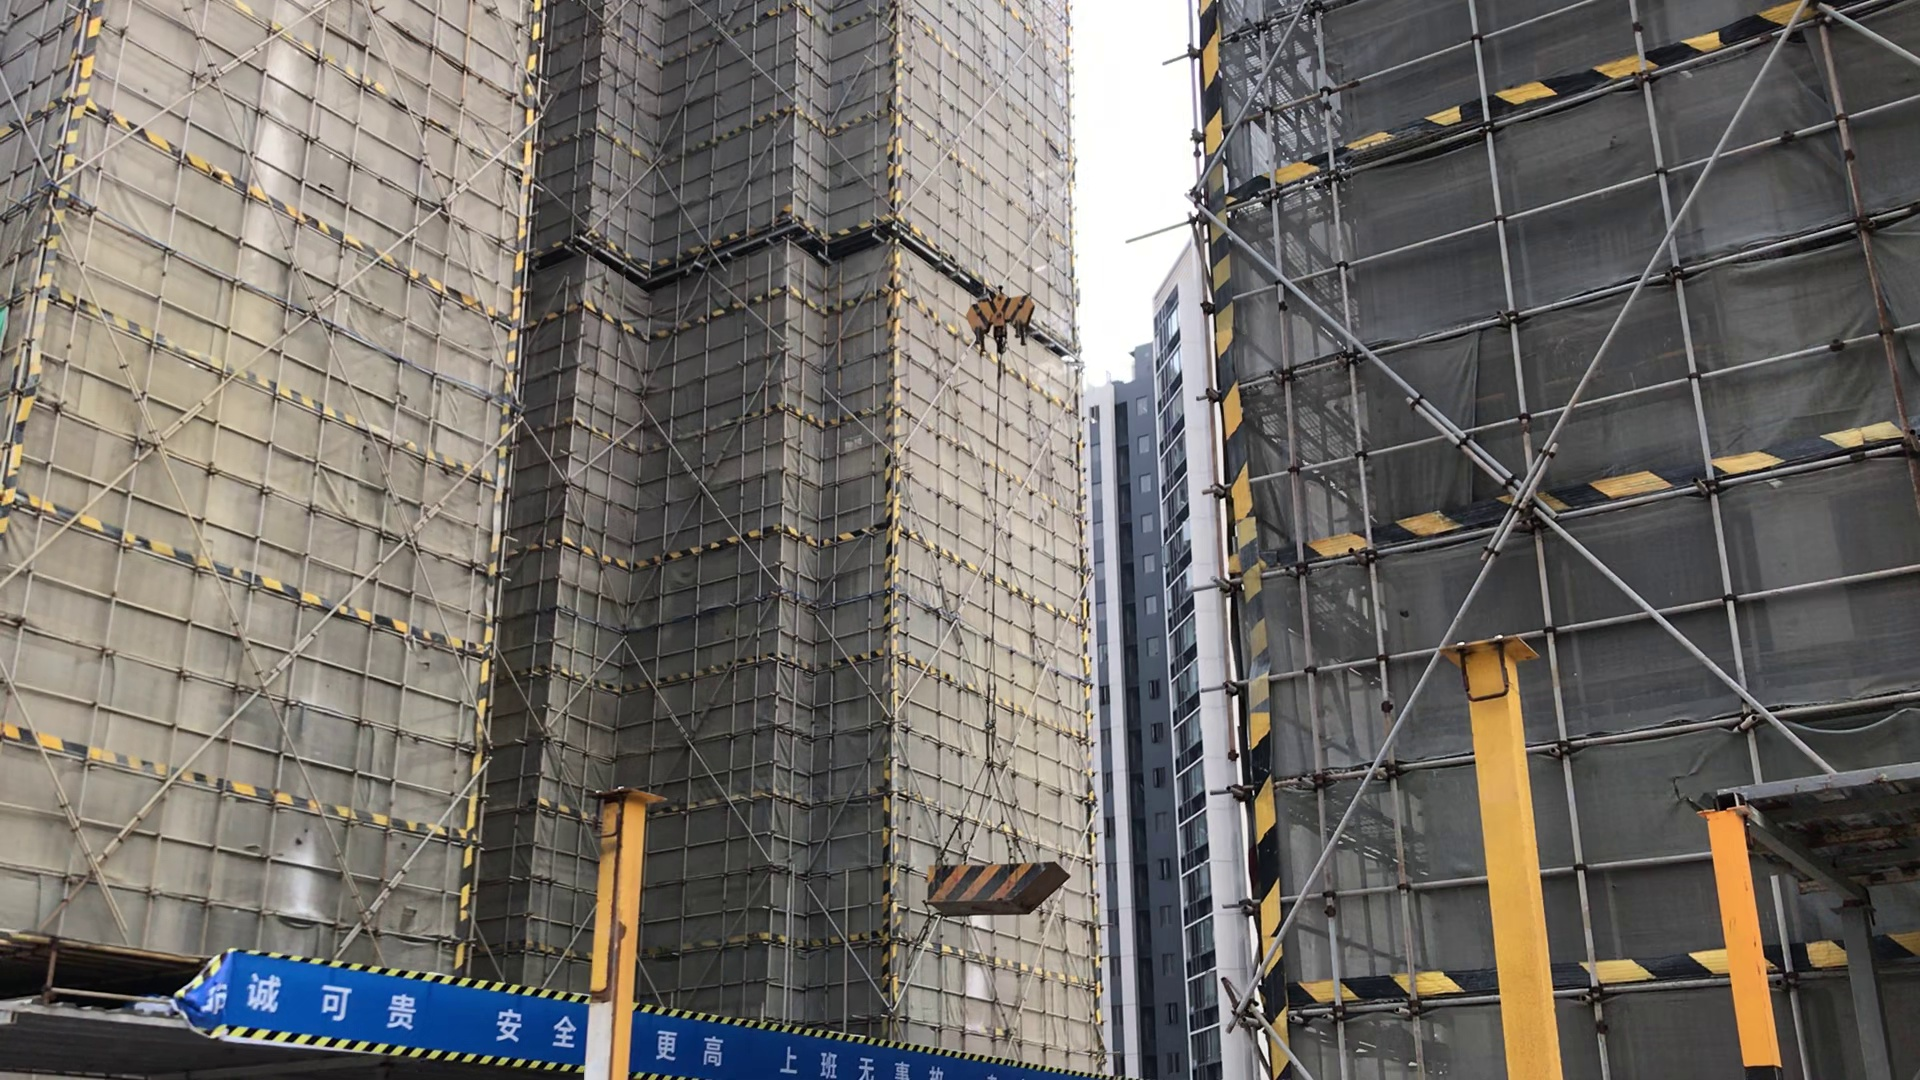hook: (956, 276, 1044, 352)
hopper: (919, 858, 1076, 922)
slogan: (220, 955, 1072, 1080)
